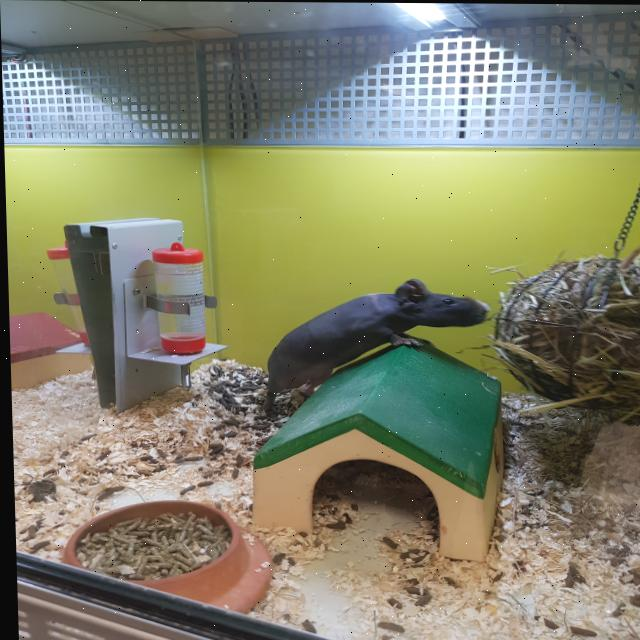guinea pig: (255, 276, 495, 422)
